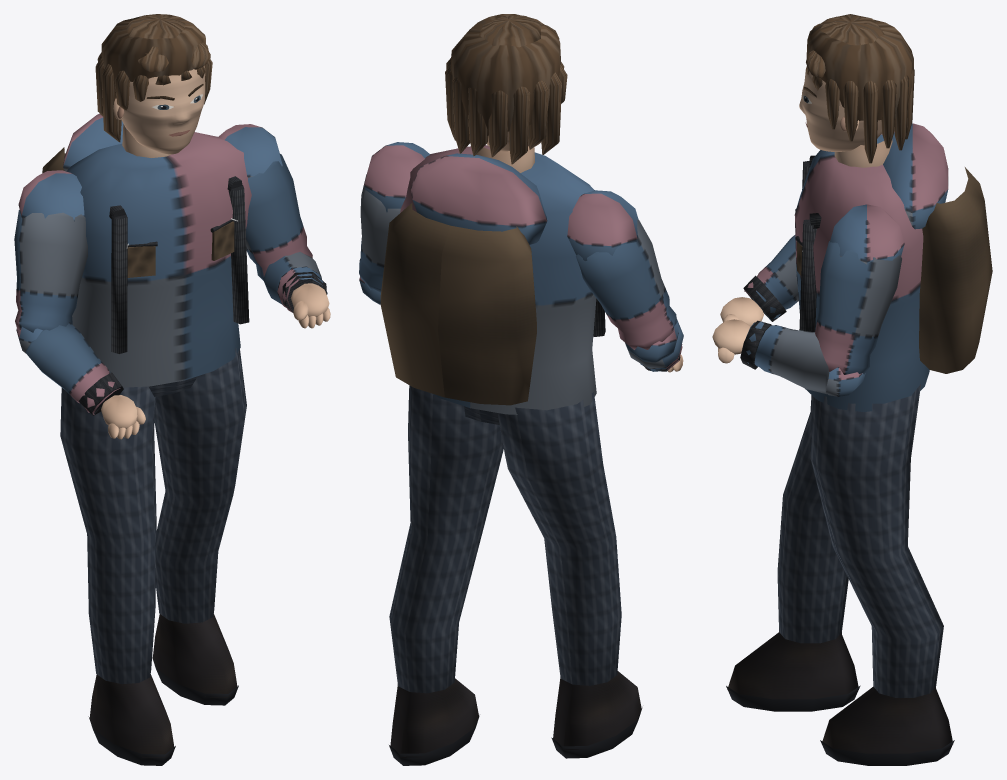
File: HERO-02_fedor-standing.glb
3 renders of one model, left to right at view 1: azimuth 30°, elevation 25°; view 2: azimuth 150°, elevation 25°; view 3: azimuth 270°, elevation 25°, orthographic. The views are drawn at different scales.
Parts seen in each view (by area): view 1: fedor · soles; view 2: fedor · soles; view 3: fedor · soles.
Part boxes in pixels (<box>): fedor · soles: <box>14,14,330,765</box>; fedor · soles: <box>359,14,683,765</box>; fedor · soles: <box>712,14,992,765</box>.
Size of the model in its own units: 0.8013 by 1.78 by 0.6414.
Materials: 3 (2 with a texture image).
